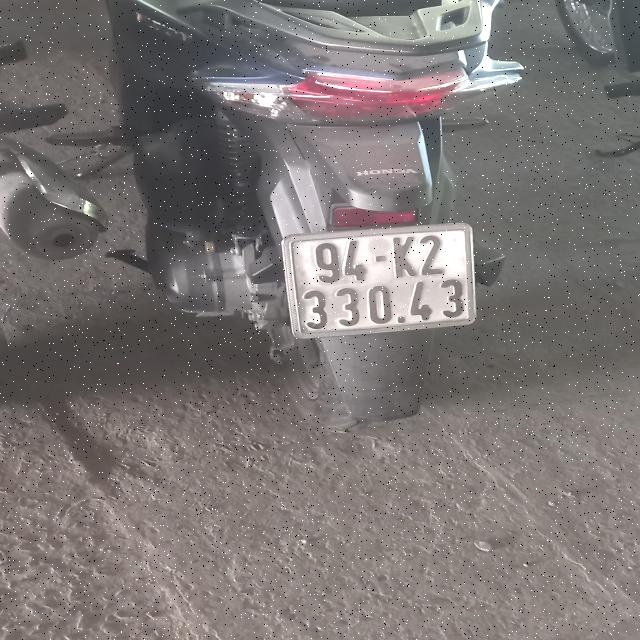0: (368, 285, 391, 325)
2: (419, 235, 443, 275)
3: (439, 278, 464, 318), (303, 290, 328, 329), (336, 288, 360, 327)
4: (342, 240, 366, 281), (410, 281, 432, 321)
9: (315, 243, 340, 284)
K: (392, 236, 418, 278)
